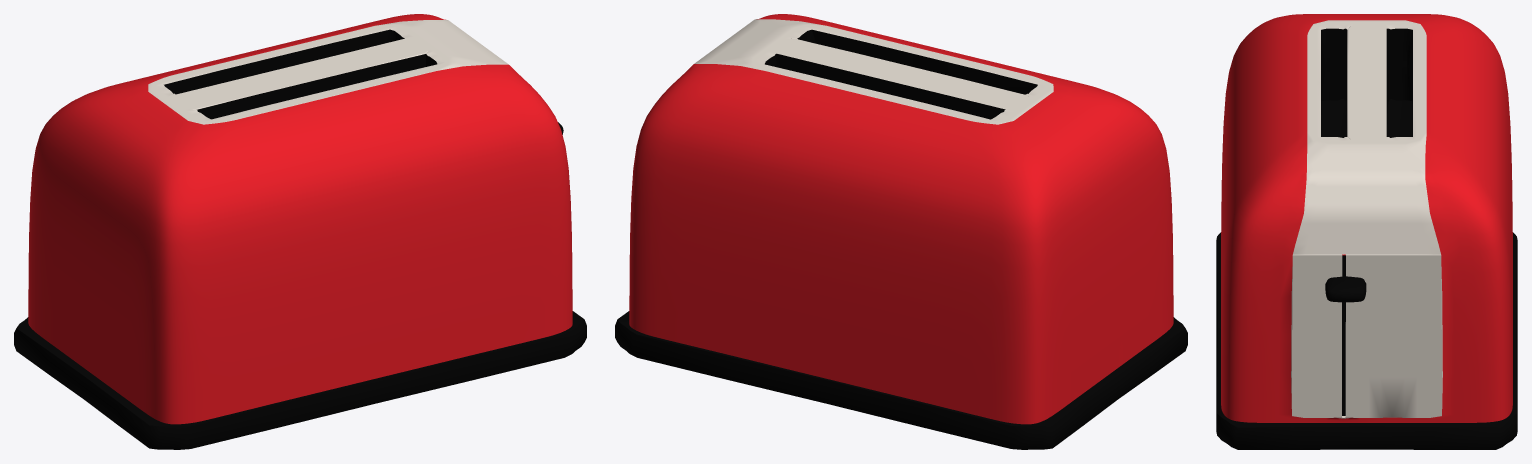
File: Model_Kitchen_Toaster.fbx
3 views of the same model, side by side, from view 1: azimuth 30°, elevation 25°; view 2: azimuth 150°, elevation 25°; view 3: azimuth 270°, elevation 25° (orthographic). The views are drawn at different scales.
Visible parts, largest first — view 1: Cube; view 2: Cube; view 3: Cube.
Part boxes in pixels (<box>): Cube: <box>14,14,586,449</box>; Cube: <box>615,14,1187,449</box>; Cube: <box>1216,14,1517,449</box>.
Bounding box in the file's own units: 30.54 × 17.15 × 17.7.
